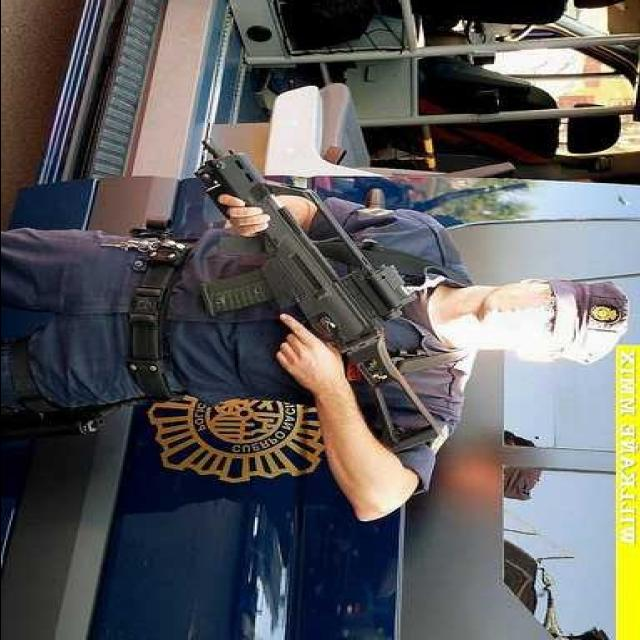heavyweapon: (185, 128, 463, 470)
